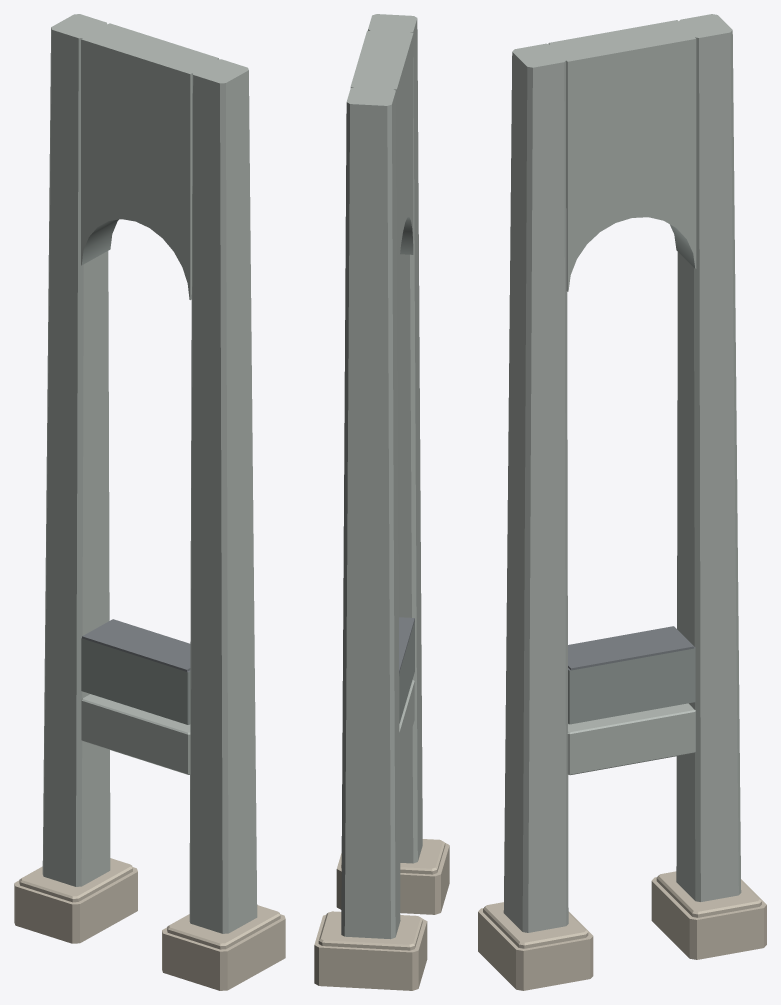
3 renders of one model, left to right at view 1: azimuth 30°, elevation 25°; view 2: azimuth 150°, elevation 25°; view 3: azimuth 270°, elevation 25°, orthographic. The views are drawn at different scales.
Visible parts, largest first — view 1: verrazzano-narrows-bridge-staten-island-tower; view 2: verrazzano-narrows-bridge-staten-island-tower; view 3: verrazzano-narrows-bridge-staten-island-tower.
Boxes of the visible parts, left/top/right/bottom form: verrazzano-narrows-bridge-staten-island-tower: left=14, top=14, right=285, bottom=990; verrazzano-narrows-bridge-staten-island-tower: left=314, top=14, right=449, bottom=990; verrazzano-narrows-bridge-staten-island-tower: left=478, top=14, right=766, bottom=990.
Bounding box in the file's own units: 42.59 × 211 × 60.89.
